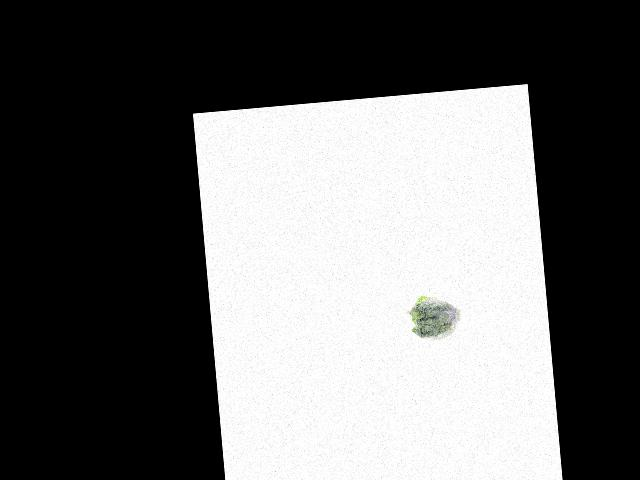lettuce: (407, 290, 463, 343)
